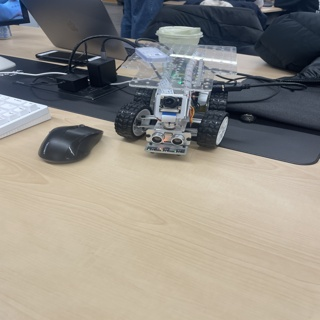vehicle: (113, 39, 236, 155)
